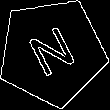N_SE: (23, 20, 82, 84)
